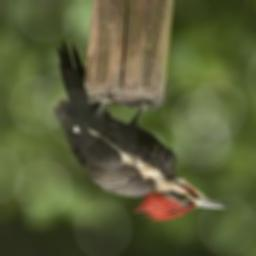Woodpecker: (39, 38, 232, 229)
